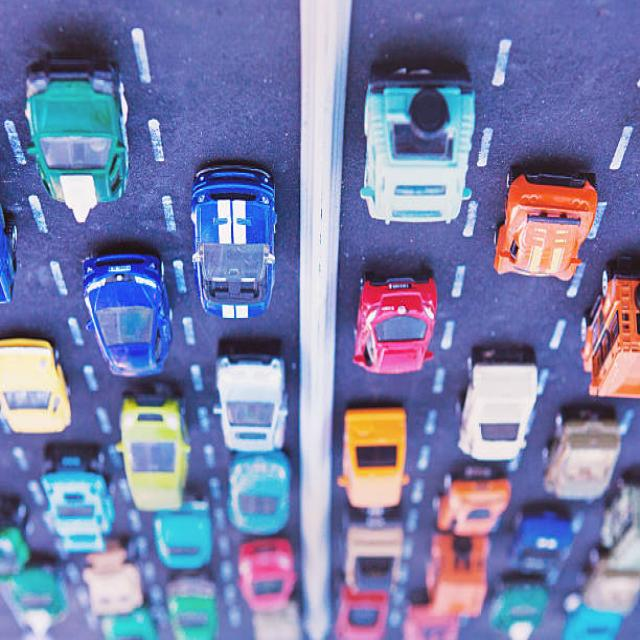Car: (358, 64, 474, 226), (24, 55, 130, 224), (189, 164, 277, 320), (493, 168, 598, 282), (81, 251, 172, 378), (115, 383, 191, 514), (456, 347, 539, 462), (351, 272, 437, 376), (579, 258, 639, 401), (212, 344, 289, 454), (541, 407, 621, 503), (337, 406, 410, 510), (0, 337, 71, 435), (507, 507, 584, 585), (226, 451, 292, 536), (435, 466, 511, 538), (152, 492, 213, 571), (343, 520, 404, 595), (236, 538, 296, 614), (487, 577, 549, 640), (164, 573, 219, 640), (333, 580, 389, 640), (402, 597, 460, 640), (0, 500, 31, 580), (0, 202, 18, 305)
